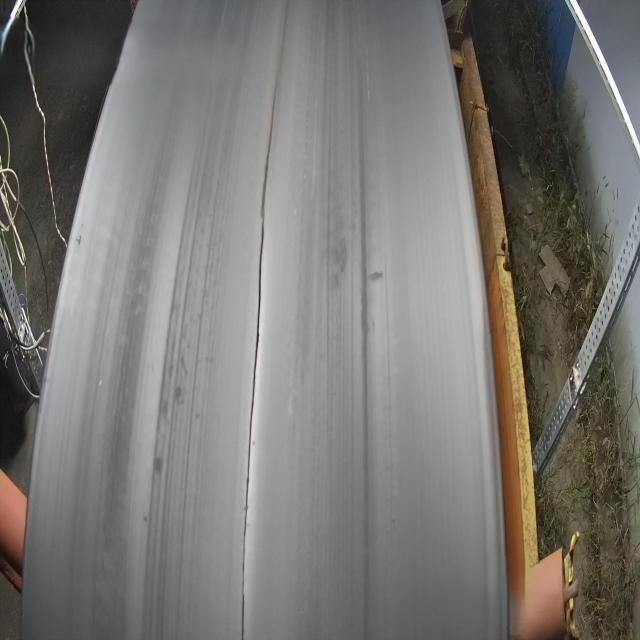Tear: (231, 0, 301, 640)
